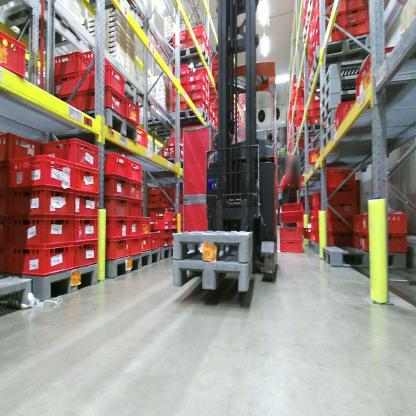pallet: (172, 246, 256, 296), (5, 0, 80, 54), (14, 262, 99, 306), (52, 105, 140, 145), (172, 226, 256, 265), (309, 38, 369, 85), (321, 241, 409, 272), (321, 56, 373, 98), (323, 126, 379, 158), (318, 76, 362, 114), (1, 272, 31, 319), (318, 93, 360, 126), (141, 239, 182, 272), (172, 41, 210, 73), (105, 251, 140, 282), (172, 104, 211, 124), (143, 114, 175, 135), (293, 121, 324, 141), (148, 121, 178, 139), (321, 111, 338, 140), (135, 82, 154, 107), (307, 81, 322, 99), (311, 238, 322, 257)
pallet_truck: (202, 2, 289, 288)
small_load_carrier: (351, 45, 408, 112), (9, 184, 77, 223), (9, 156, 75, 195), (9, 212, 77, 248), (7, 241, 74, 277), (40, 136, 99, 176), (76, 64, 127, 101), (334, 102, 380, 138), (1, 127, 42, 164), (1, 23, 28, 78), (358, 209, 405, 237), (314, 9, 346, 49), (359, 229, 408, 254), (79, 87, 124, 114), (43, 51, 91, 76), (320, 164, 358, 192), (326, 195, 367, 217), (76, 163, 100, 198), (103, 151, 130, 181), (75, 236, 99, 269), (75, 214, 100, 245), (75, 190, 100, 220), (46, 75, 78, 97), (104, 176, 130, 201), (104, 196, 129, 222), (327, 183, 360, 202), (51, 91, 79, 113), (158, 142, 188, 162), (82, 48, 108, 71), (104, 237, 129, 260), (279, 199, 303, 222), (124, 92, 140, 125), (327, 217, 358, 234), (278, 223, 304, 242), (346, 19, 370, 38), (104, 219, 127, 237), (346, 7, 370, 24), (327, 231, 356, 245), (279, 240, 304, 255), (317, 1, 345, 14), (129, 157, 142, 183), (130, 176, 143, 202), (150, 220, 180, 231), (128, 237, 143, 258), (135, 125, 148, 149), (148, 212, 179, 222), (187, 23, 206, 39), (187, 89, 206, 105), (186, 97, 206, 112), (1, 158, 11, 188), (187, 81, 206, 96), (129, 217, 143, 237), (308, 148, 323, 166), (147, 231, 160, 251), (189, 35, 206, 50), (1, 215, 9, 246), (187, 69, 207, 81), (297, 116, 320, 126), (296, 101, 315, 113), (172, 61, 188, 75), (129, 199, 140, 219), (1, 188, 9, 215), (310, 191, 324, 206), (296, 108, 312, 121), (1, 246, 8, 273), (173, 30, 187, 43), (172, 75, 187, 87), (142, 216, 151, 235), (171, 92, 186, 103), (147, 185, 165, 194), (310, 231, 321, 245), (173, 83, 187, 94), (172, 100, 187, 110), (172, 40, 188, 49), (312, 216, 321, 231), (158, 229, 170, 240), (141, 236, 150, 250), (310, 206, 321, 216), (159, 237, 170, 247), (146, 201, 161, 208), (147, 194, 160, 201), (313, 99, 322, 109), (206, 33, 210, 49), (313, 107, 320, 116), (160, 201, 169, 208), (160, 195, 170, 201), (205, 68, 209, 82), (178, 203, 184, 212), (178, 212, 183, 221), (206, 81, 209, 90), (205, 107, 208, 116), (206, 46, 208, 57), (181, 221, 183, 227)
